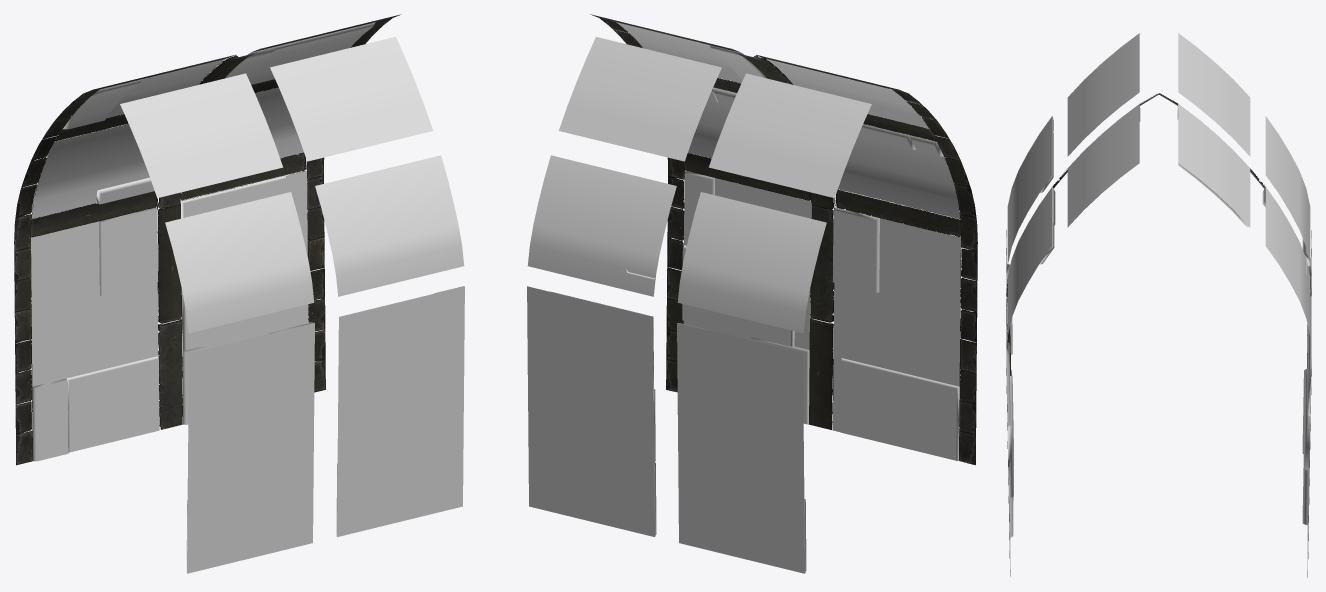
3 renders of one model, left to right at view 1: azimuth 30°, elevation 25°; view 2: azimuth 150°, elevation 25°; view 3: azimuth 270°, elevation 25°, orthographic. The views are drawn at different scales.
Parts seen in each view (by area): view 1: SM_Greathall_Doorway_Hall_03_LOD0; view 2: SM_Greathall_Doorway_Hall_03_LOD0; view 3: SM_Greathall_Doorway_Hall_03_LOD0.
Part boxes in pixels (x1,y1,x2,y2): SM_Greathall_Doorway_Hall_03_LOD0: (14, 14, 464, 573); SM_Greathall_Doorway_Hall_03_LOD0: (527, 14, 977, 573); SM_Greathall_Doorway_Hall_03_LOD0: (1006, 33, 1311, 577).
Size of the model in its own units: 8 by 10.66 by 7.06.
Materials: 2 (1 with a texture image).
